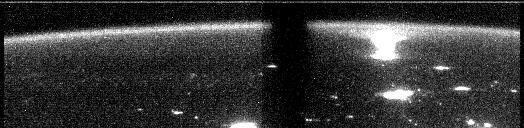positive: (366, 31, 408, 54)
